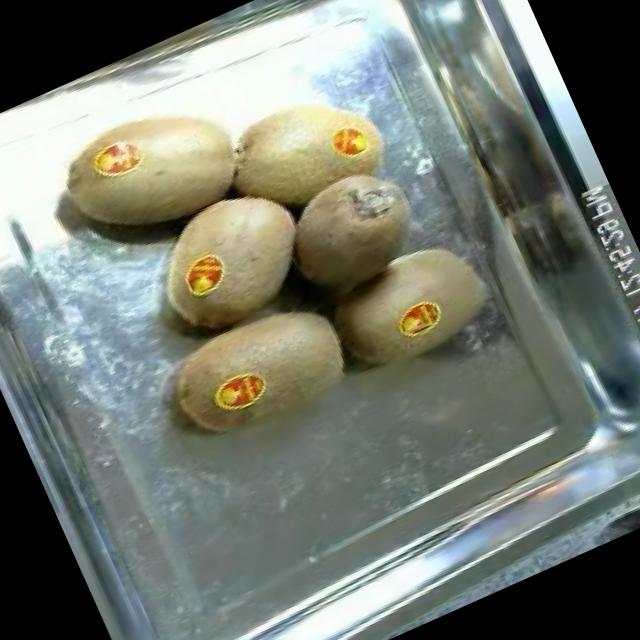Fruit: (142, 270, 378, 478), (35, 64, 268, 271), (192, 61, 406, 246), (258, 144, 447, 318)
